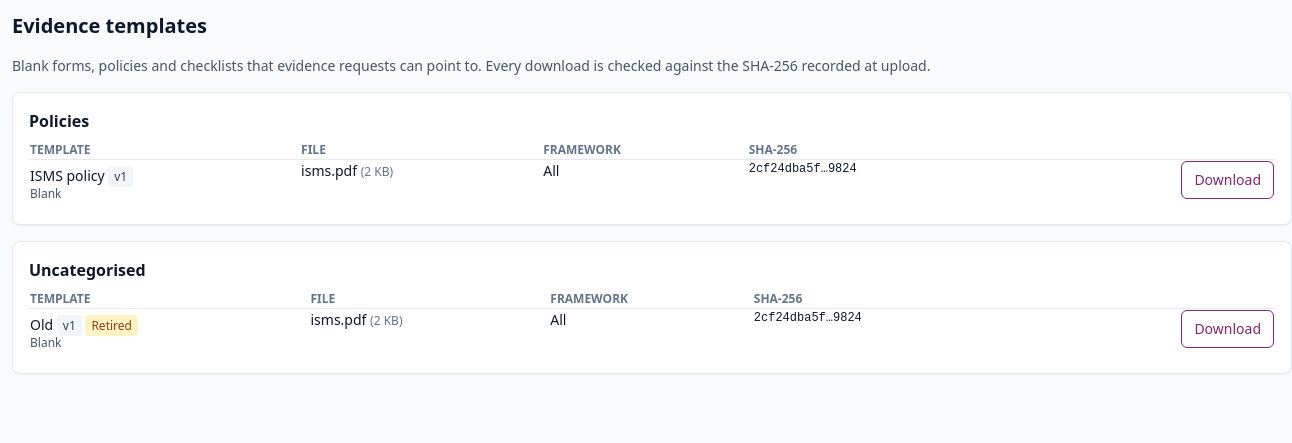
it: download verifies the SHA-256 and shows a clear warning on mismatch
Click the button with aria-label "Download ISMS policy": (1228, 180) [1181,161,1274,199]
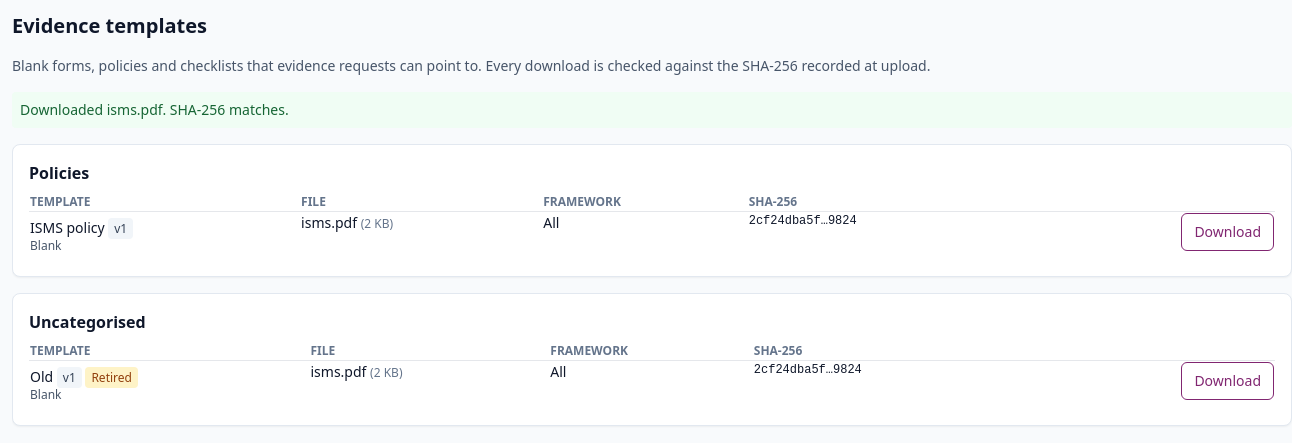
Check: the text "Downloaded isms.pdf. SHA-256 matches." is shown, box [12,92,1291,128]
Click the button with aria-label "Download ISMS policy": (1228, 232) [1181,213,1274,251]
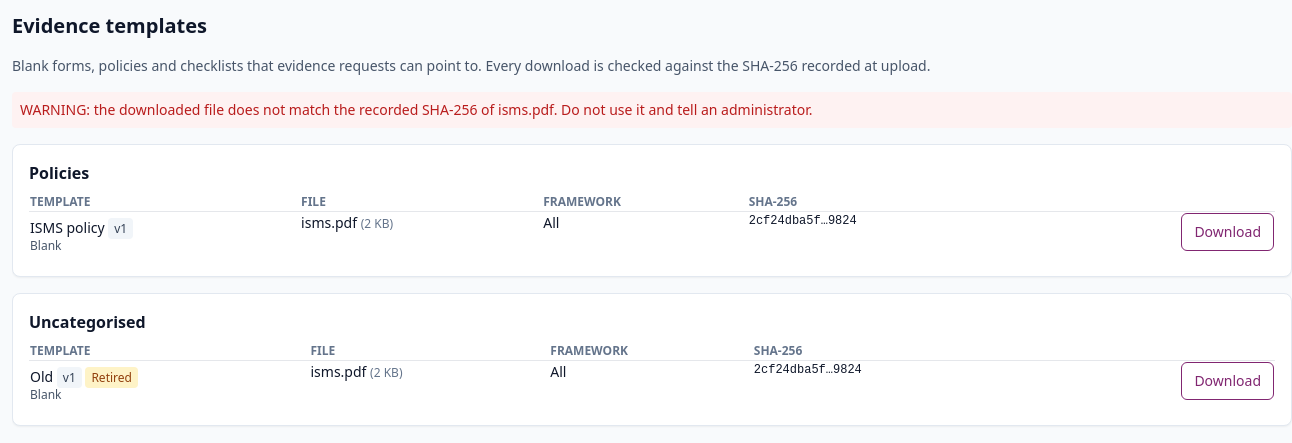
Check: the text "WARNING: the downloaded file does not match" is shown, box [20,100,812,119]
